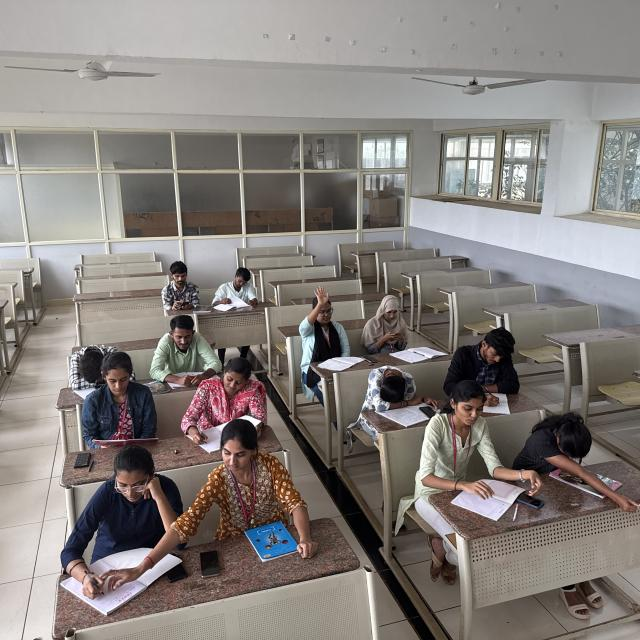Hand Rising: (298, 285, 354, 365)
Reading: (435, 387, 504, 507), (85, 352, 157, 451), (150, 317, 223, 389), (213, 269, 261, 310)
Sleeping: (516, 403, 590, 471), (66, 345, 130, 395), (364, 362, 421, 414)
Using Phone: (361, 294, 415, 350), (160, 262, 200, 310)
Writing: (80, 453, 166, 600), (182, 345, 260, 449), (441, 322, 519, 411)
